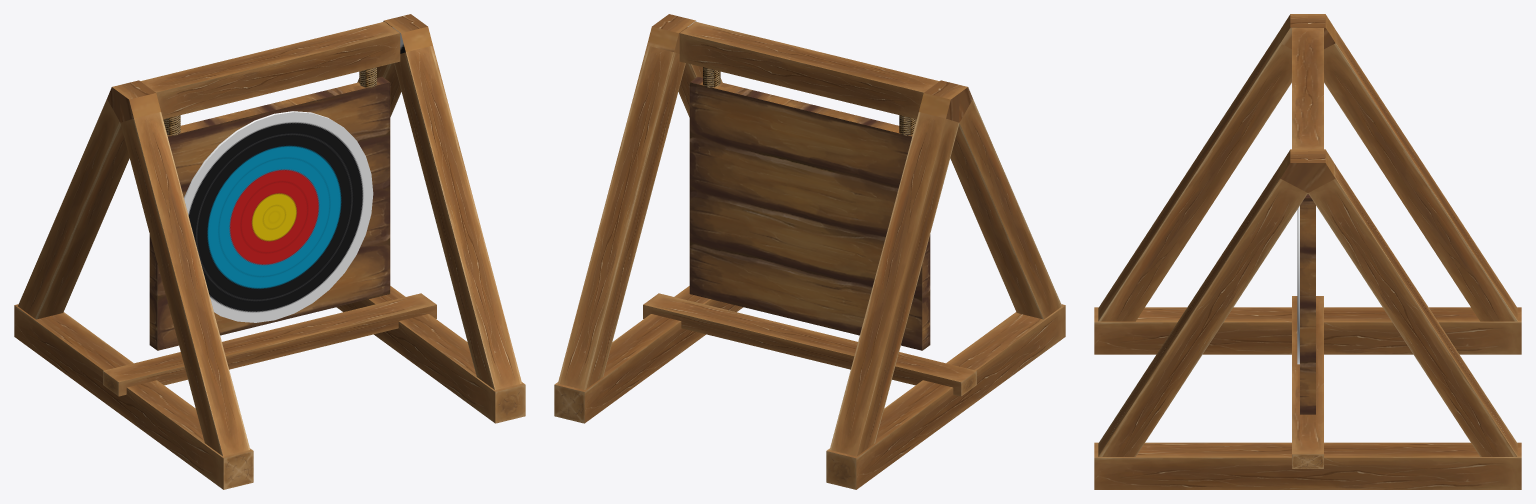
Rendered from target_poster.glb.
3 views of the same model, side by side, from view 1: azimuth 30°, elevation 25°; view 2: azimuth 150°, elevation 25°; view 3: azimuth 270°, elevation 25° (orthographic). The views are drawn at different scales.
Parts seen in each view (by area): view 1: Cube.003_0, Cube.004_1; view 2: Cube.003_0, Cube.004_1; view 3: Cube.003_0, Cube.004_1.
Part boxes in pixels (x1=…): Cube.003_0: x1=14, y1=14, x2=525, y2=489; Cube.004_1: x1=149, y1=67, x2=390, y2=350; Cube.003_0: x1=554, y1=14, x2=1065, y2=489; Cube.004_1: x1=689, y1=67, x2=930, y2=350; Cube.003_0: x1=1094, y1=14, x2=1521, y2=489; Cube.004_1: x1=1297, y1=193, x2=1315, y2=414.
Bounding box in the file's own units: 1.05 × 1.01 × 1.2.
1 material, 1 textured.
